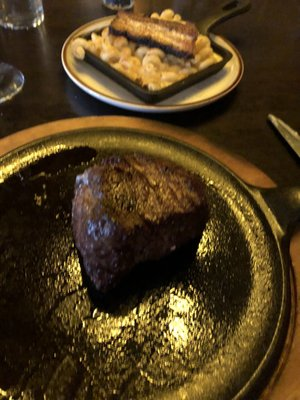pizza: (0, 0, 44, 31), (101, 0, 136, 13)
sandwich: (266, 113, 300, 169)
